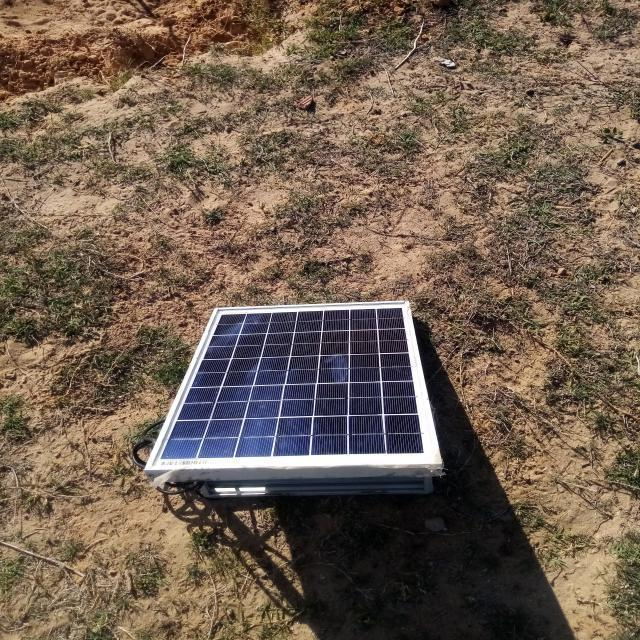Normal Solar Panel: (146, 302, 441, 469)
